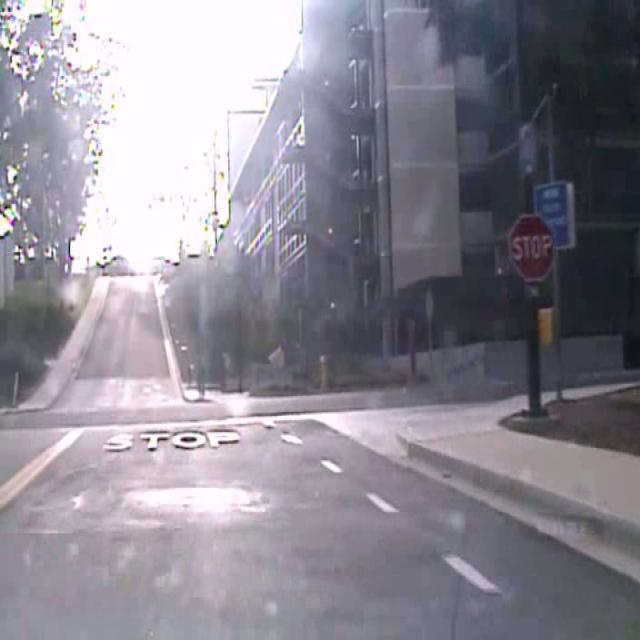stop_sign: (508, 212, 556, 281)
